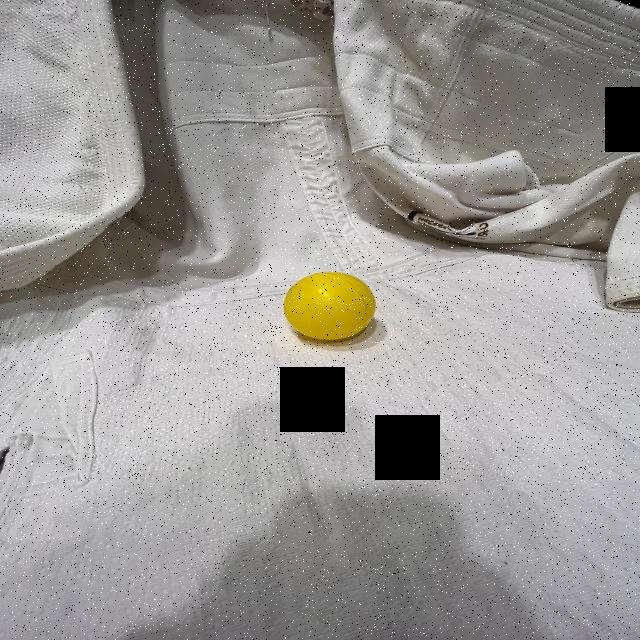ball: (282, 268, 378, 345)
